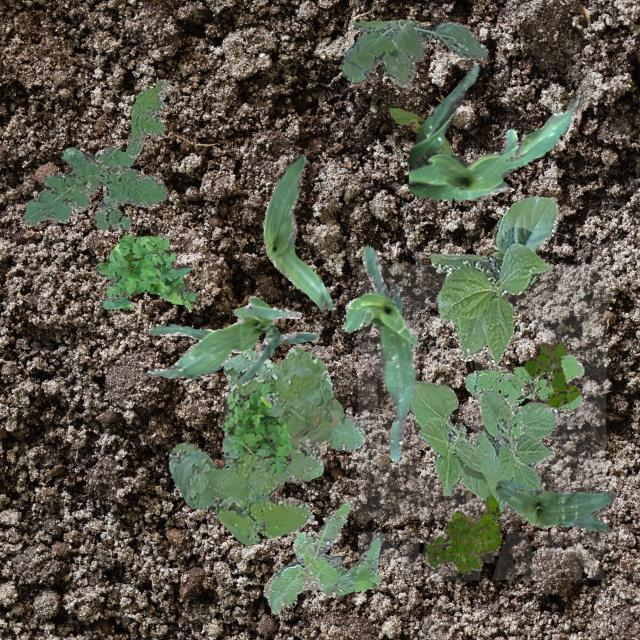crop: (406, 62, 578, 200), (430, 194, 558, 364), (408, 379, 556, 512), (342, 245, 418, 460), (144, 294, 318, 380), (262, 152, 332, 310), (494, 478, 614, 532), (388, 106, 452, 154)
weed: (168, 346, 364, 544), (21, 80, 168, 228), (262, 500, 382, 612), (340, 18, 486, 86), (464, 354, 584, 436), (94, 234, 198, 308), (220, 382, 290, 472), (450, 493, 500, 572), (524, 342, 580, 406), (426, 516, 482, 570)
